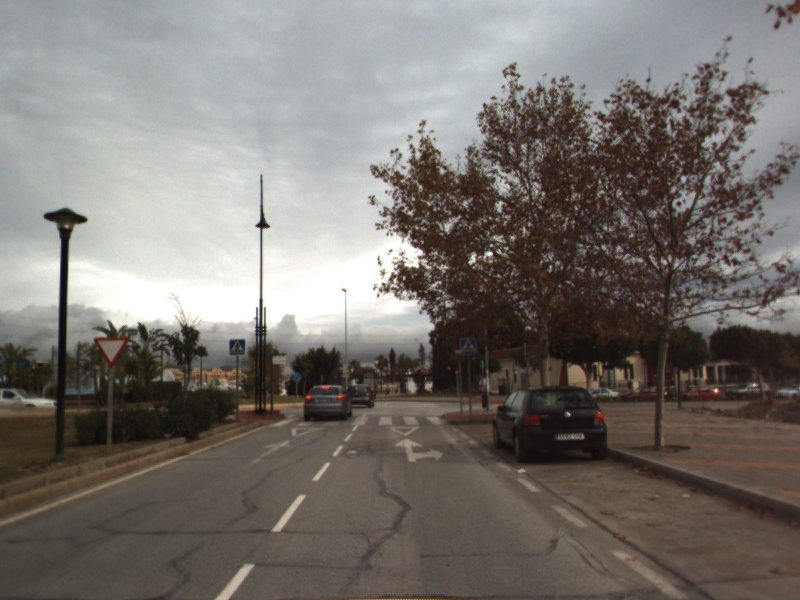STRAIGHT: (247, 437, 296, 466)
STRAIGHT_RIGHT: (391, 436, 446, 464)
